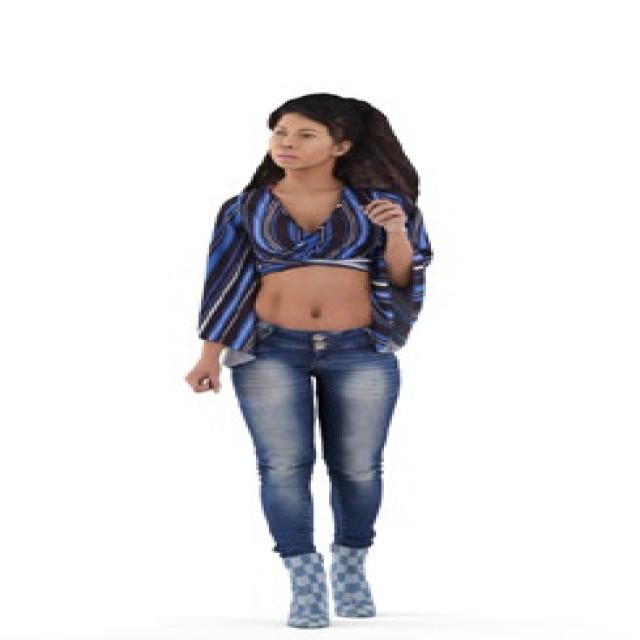standing: (176, 88, 447, 628)
